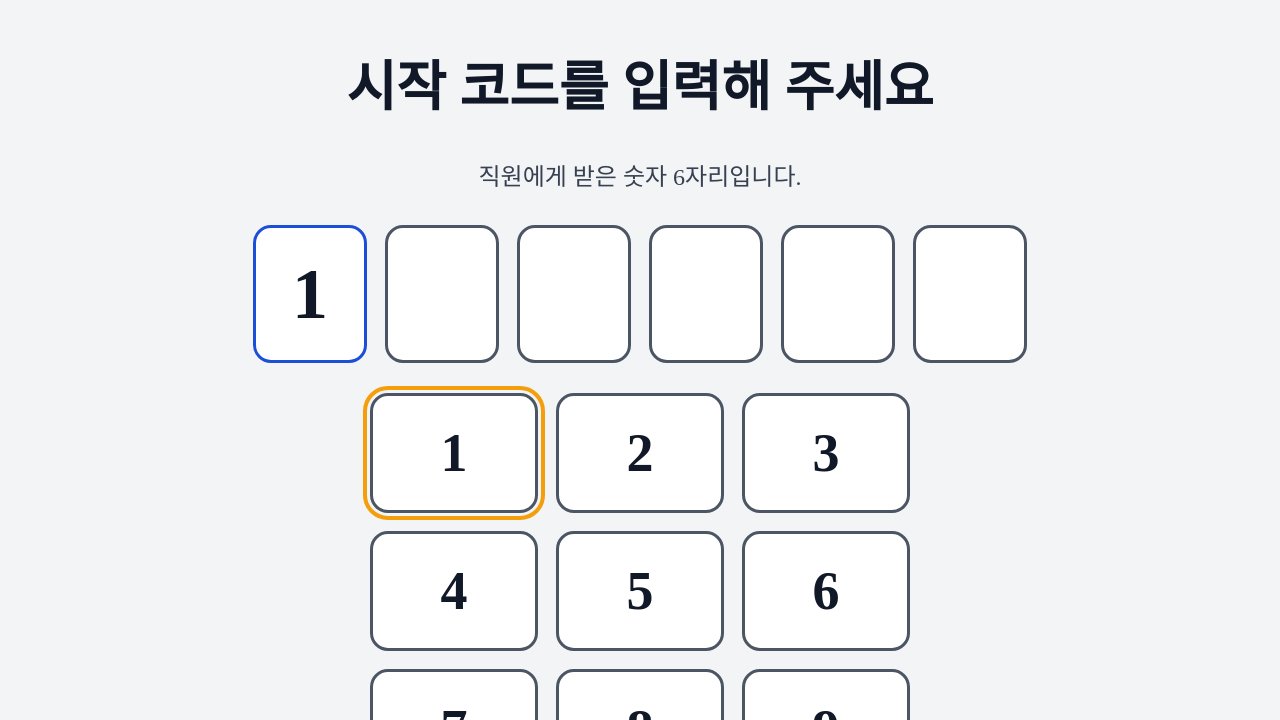
시작 › 코드나 기기 배치가 문진표를 정했으면(문진표가 둘이어도) 선택 화면 없이 시작한다
Earlier steps of the test are not shown.
Click the button "2" at (640, 453), box [556,393,724,513]
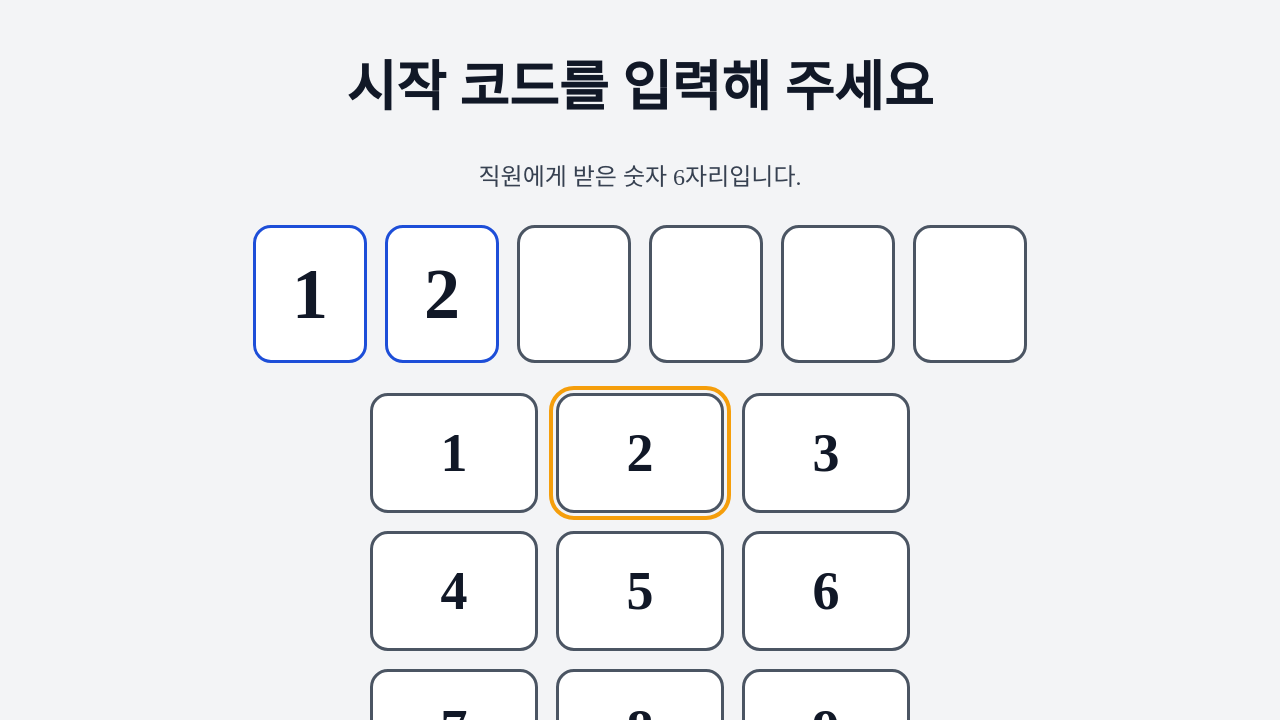
Click the button "3" at (826, 453), box [742,393,910,513]
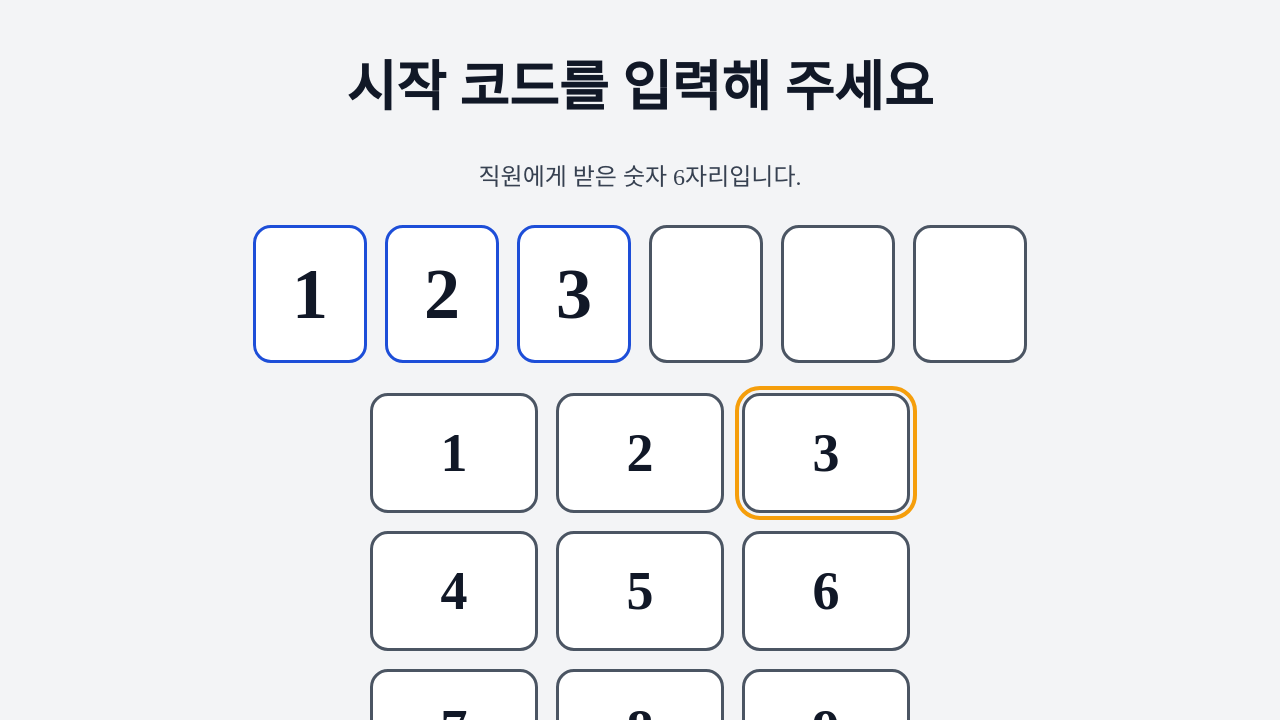
Click the button "4" at (454, 591), box [370,531,538,651]
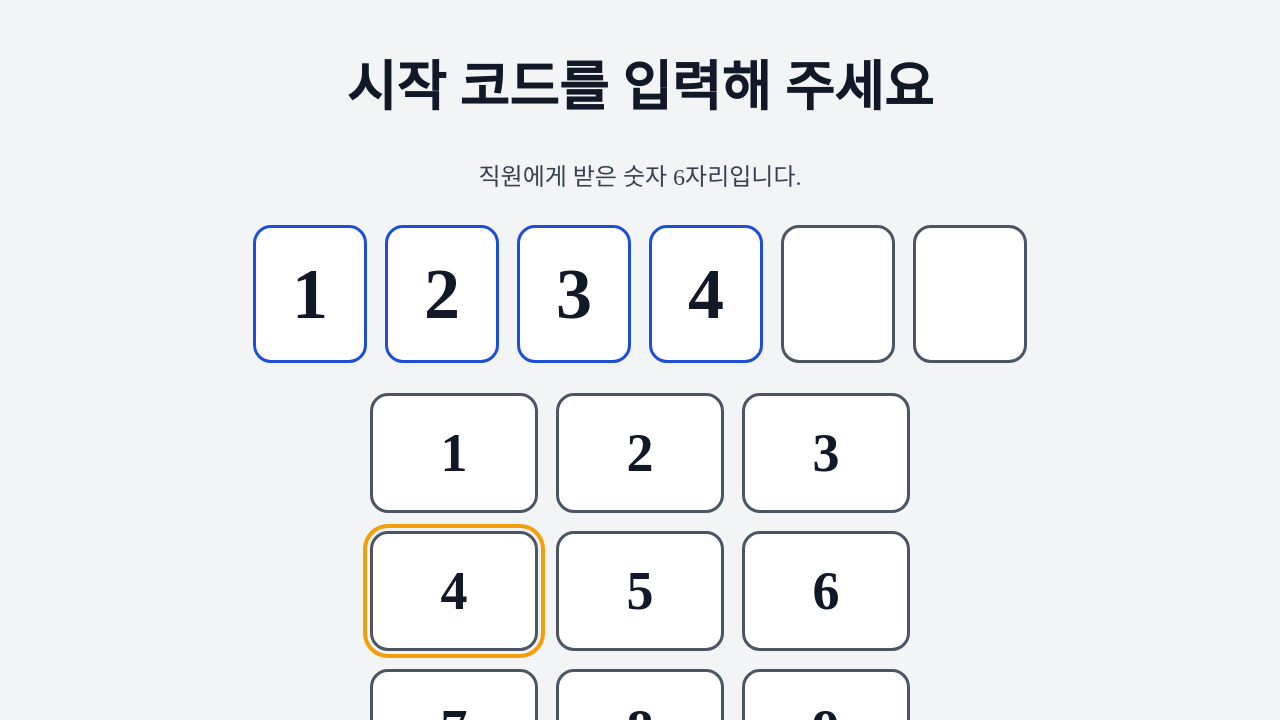
Click the button "5" at (640, 591), box [556,531,724,651]
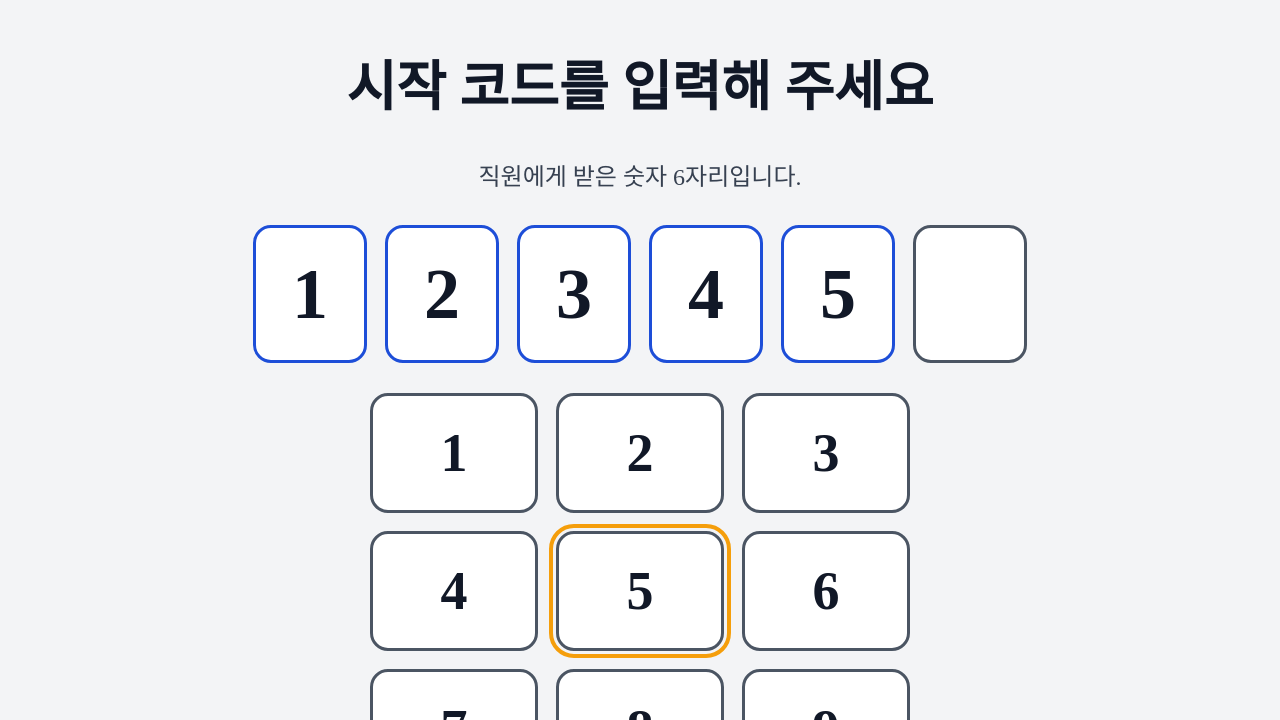
Click the button "6" at (826, 591), box [742,531,910,651]
(page scrolled)
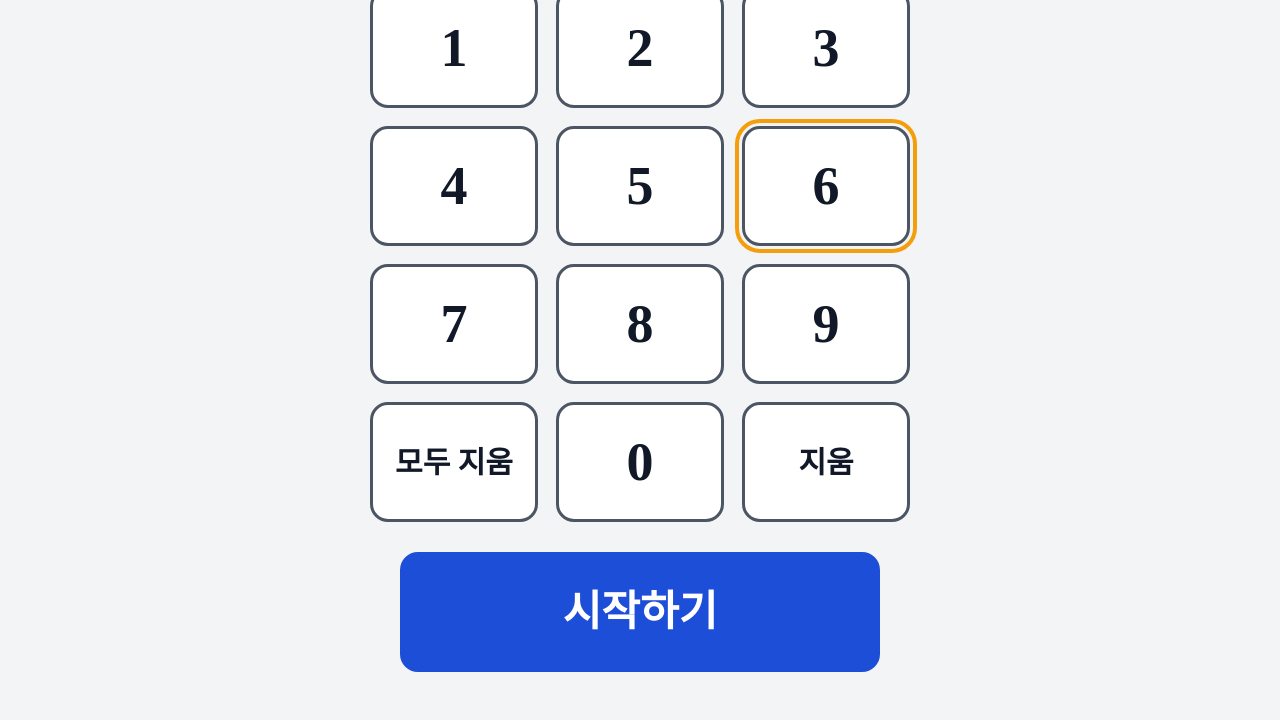
Click the button "시작하기" at (640, 612), box [400,552,880,672]
(page scrolled)
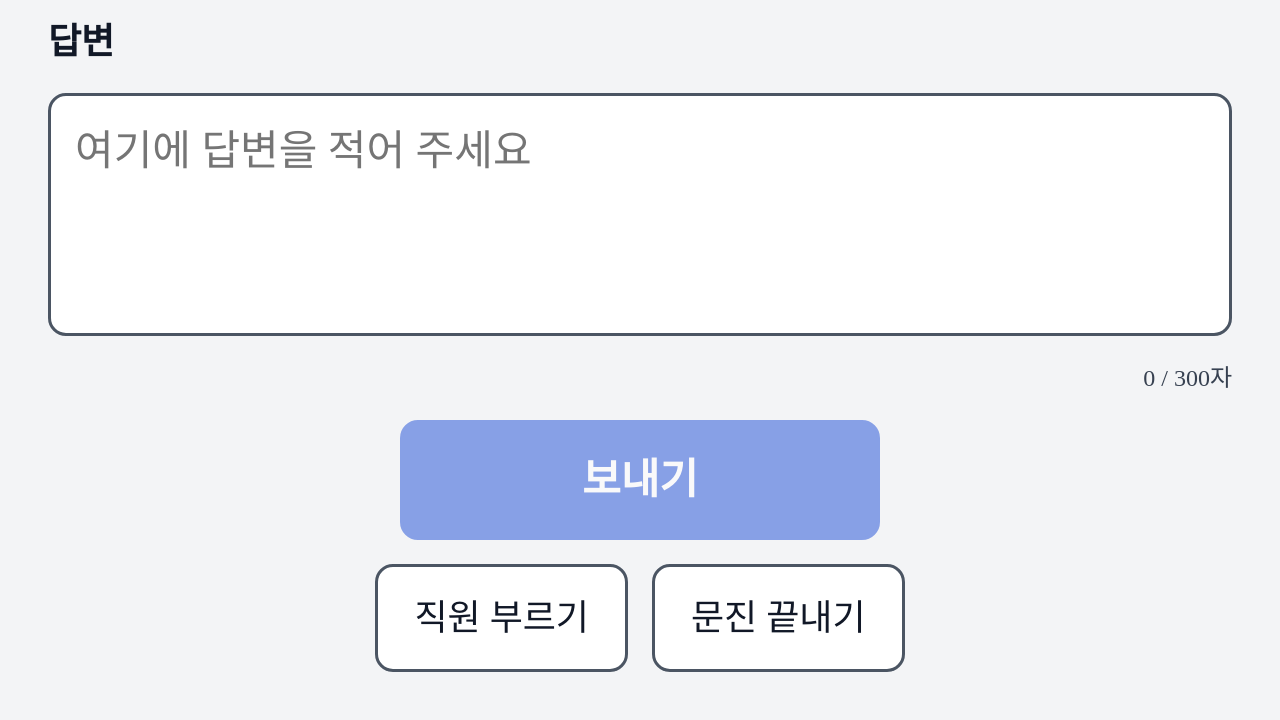
Expected: the text box labelled "답변" is shown, [48,93,1232,336]
